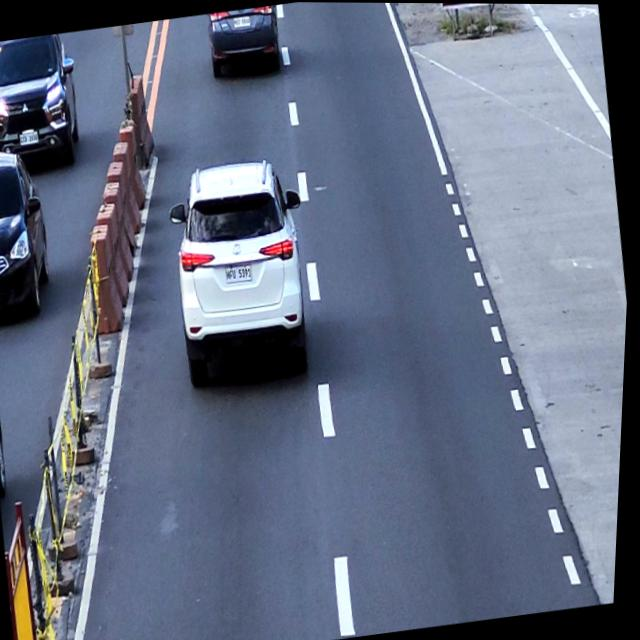Car: (158, 151, 328, 390), (0, 31, 90, 173), (0, 142, 62, 322), (204, 4, 286, 80)
License-Plate: (227, 261, 256, 285), (19, 131, 41, 147), (232, 15, 252, 29), (0, 282, 2, 301)
